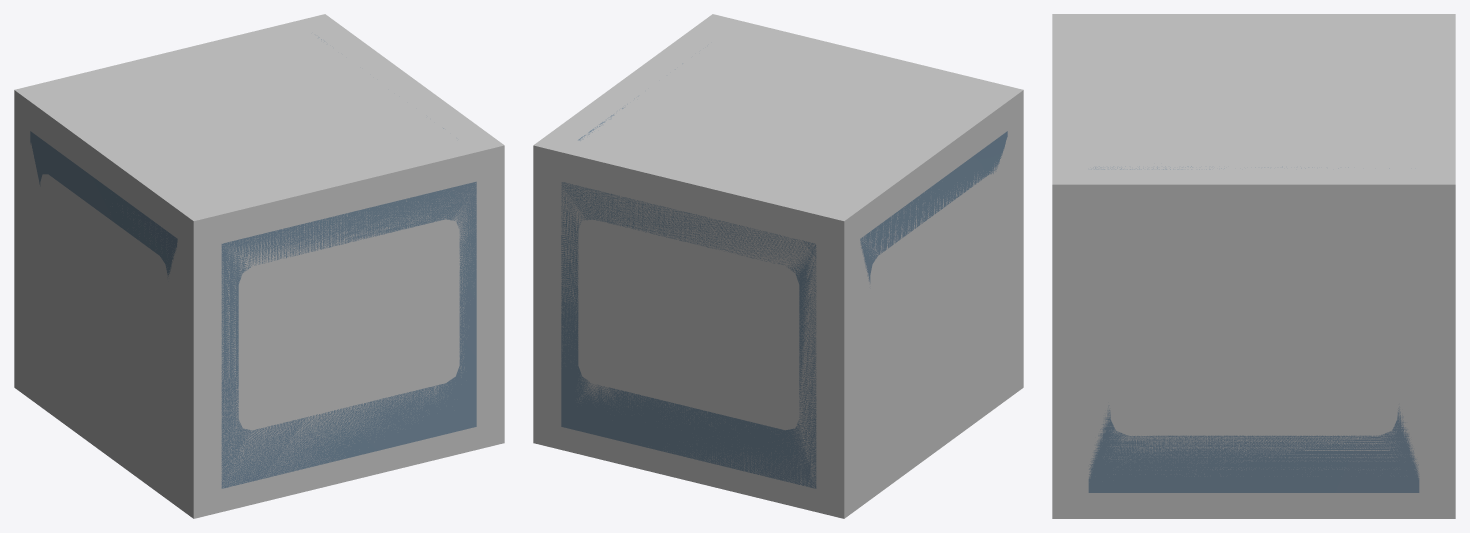
File: SM_Crate_01.fbx
3 renders of one model, left to right at view 1: azimuth 30°, elevation 25°; view 2: azimuth 150°, elevation 25°; view 3: azimuth 270°, elevation 25°, orthographic. The views are drawn at different scales.
Parts seen in each view (by area): view 1: SM_Crate_01_ConvexHulls, SM_Crate_01; view 2: SM_Crate_01_ConvexHulls, SM_Crate_01; view 3: SM_Crate_01_ConvexHulls, SM_Crate_01.
Part boxes in pixels (x1,y1,x2,y2): SM_Crate_01_ConvexHulls: (14, 14, 504, 518); SM_Crate_01: (30, 37, 476, 488); SM_Crate_01_ConvexHulls: (533, 14, 1023, 518); SM_Crate_01: (561, 63, 1007, 488); SM_Crate_01_ConvexHulls: (1052, 14, 1455, 518); SM_Crate_01: (1088, 166, 1419, 492).
Size of the model in its own units: 116 by 116 by 106.
